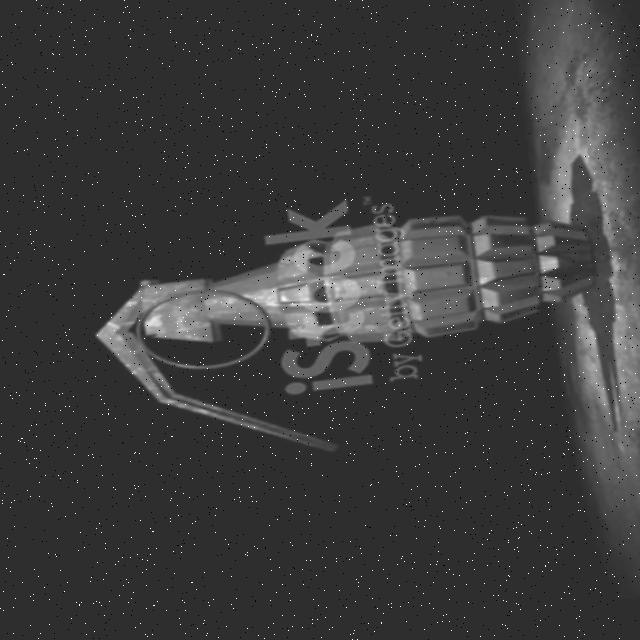grenade: (65, 157, 621, 517)
